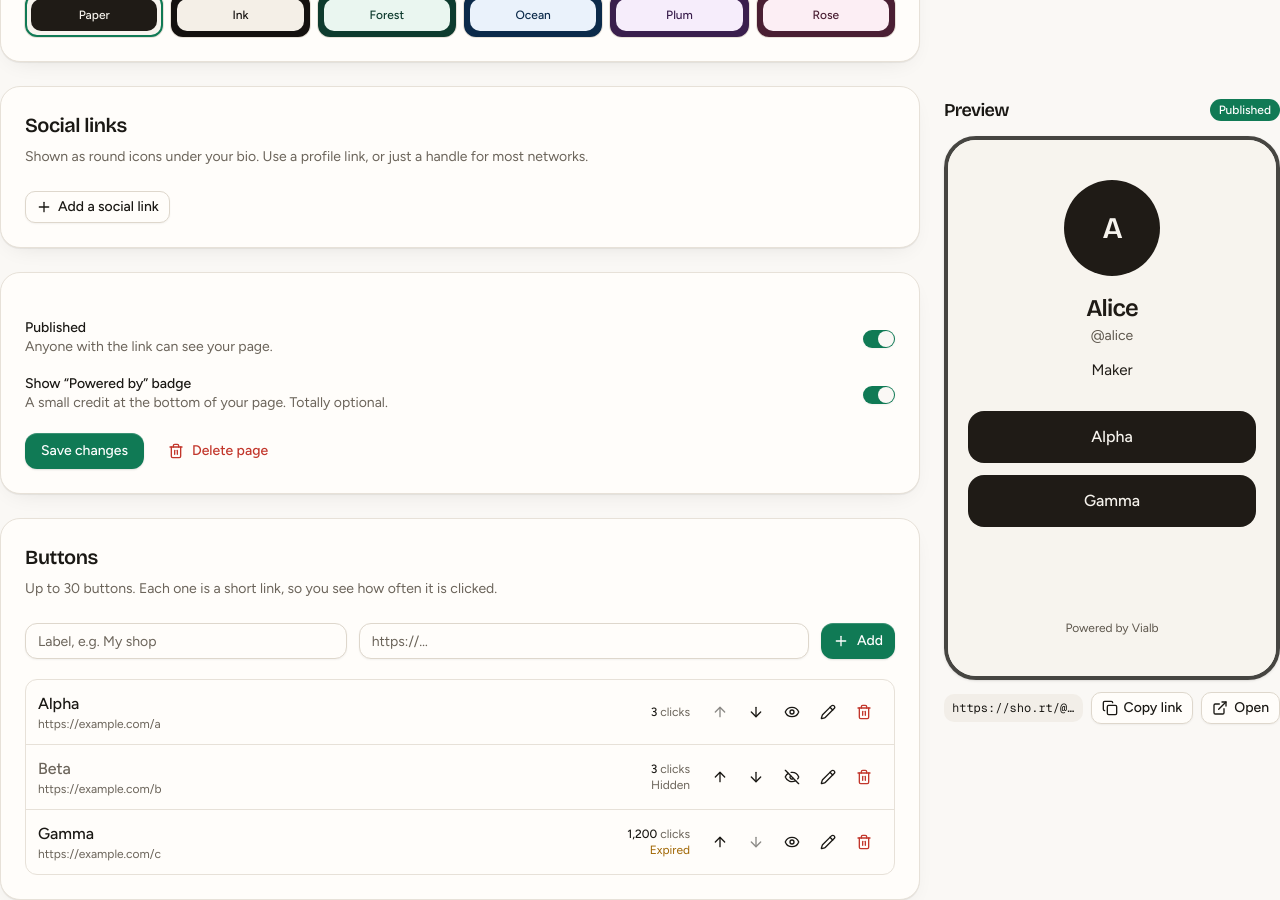
BioEditor with a page and buttons › shows why a button could not be added
(page scrolled)
Type "One more" into the field named "Button label" at (186, 641), box [25,623,347,659]
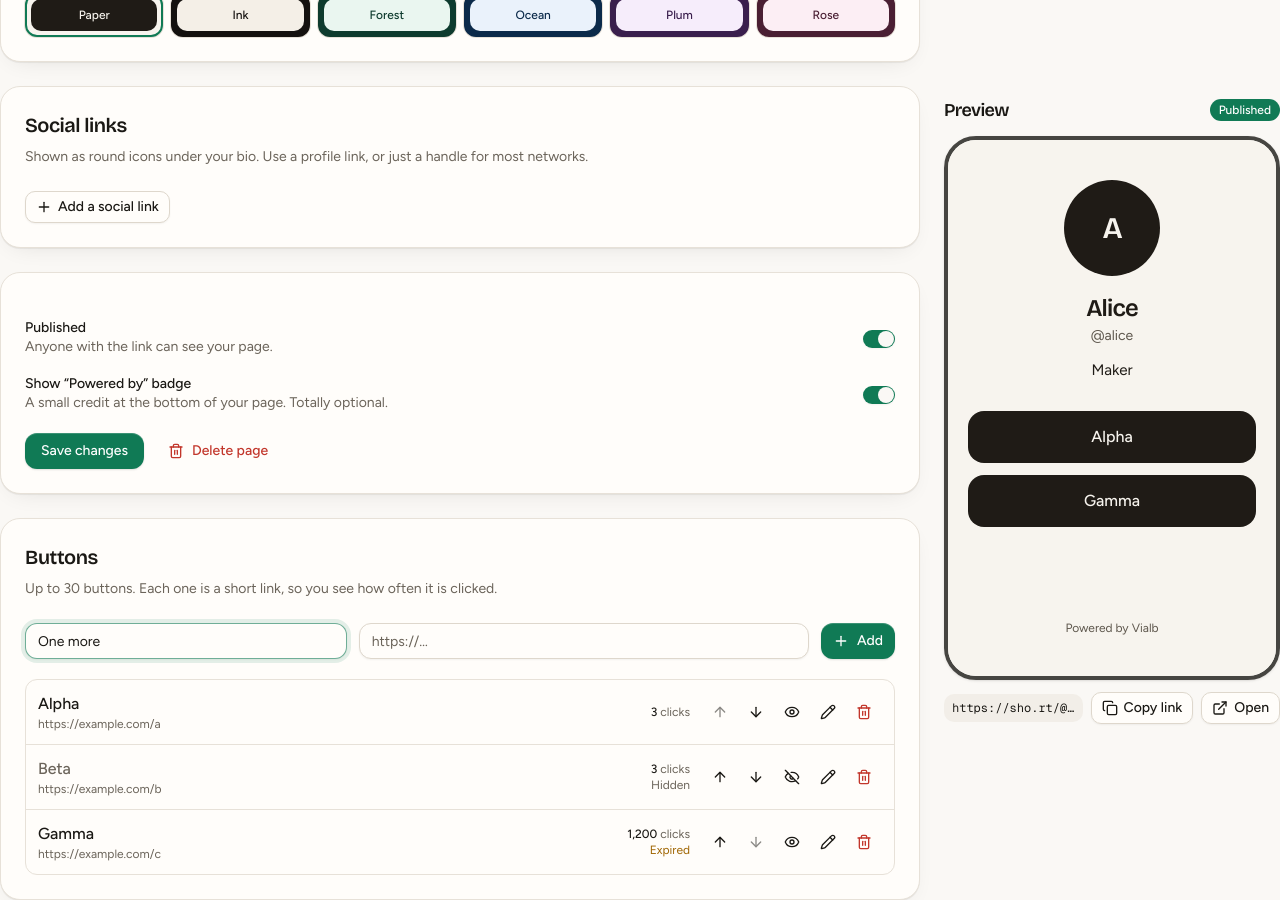
Type "https://example.com/more" into the field named "Button link" at (584, 641), box [359,623,809,659]
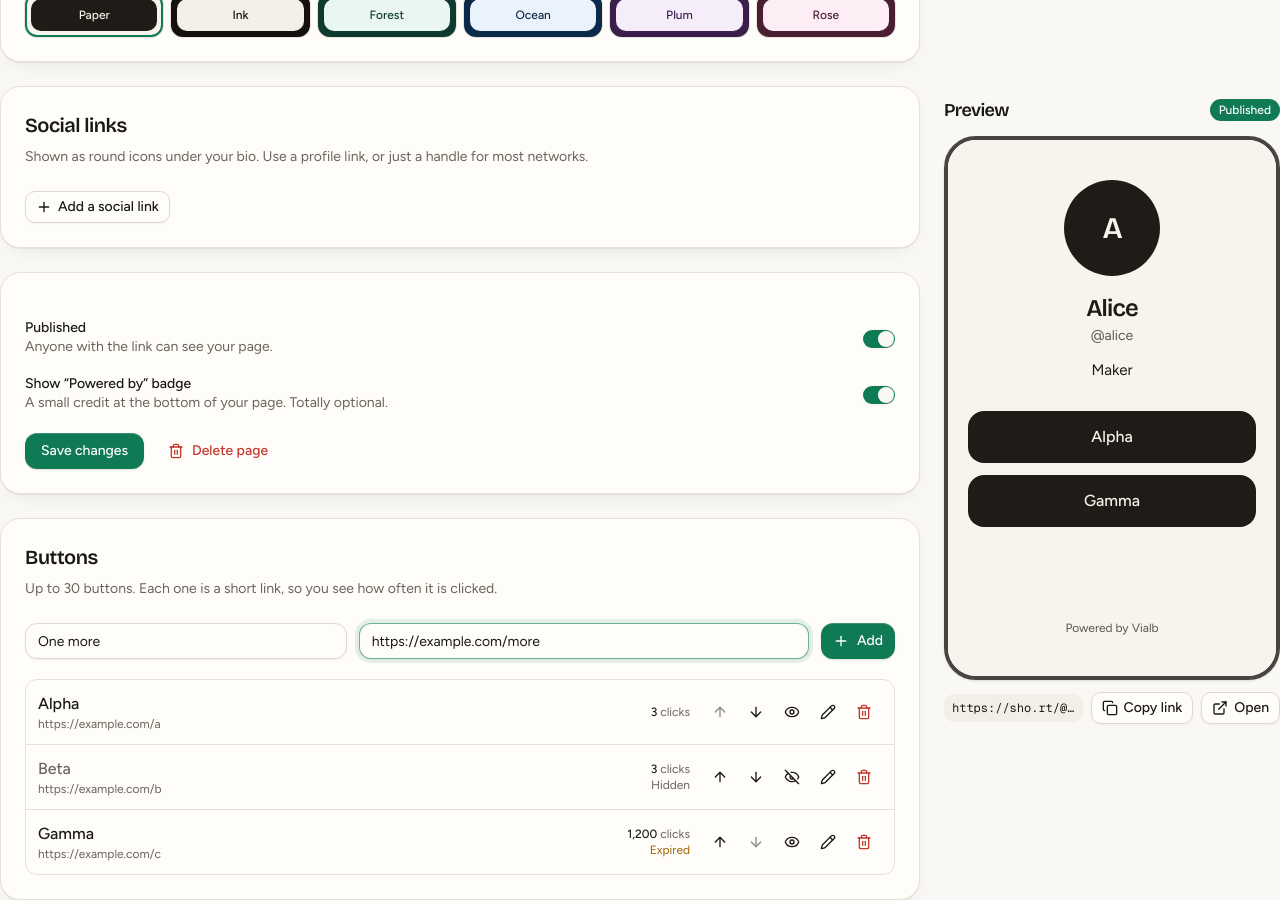
Click the button with test id "bio-add-button" at (858, 641), box [821,623,895,659]
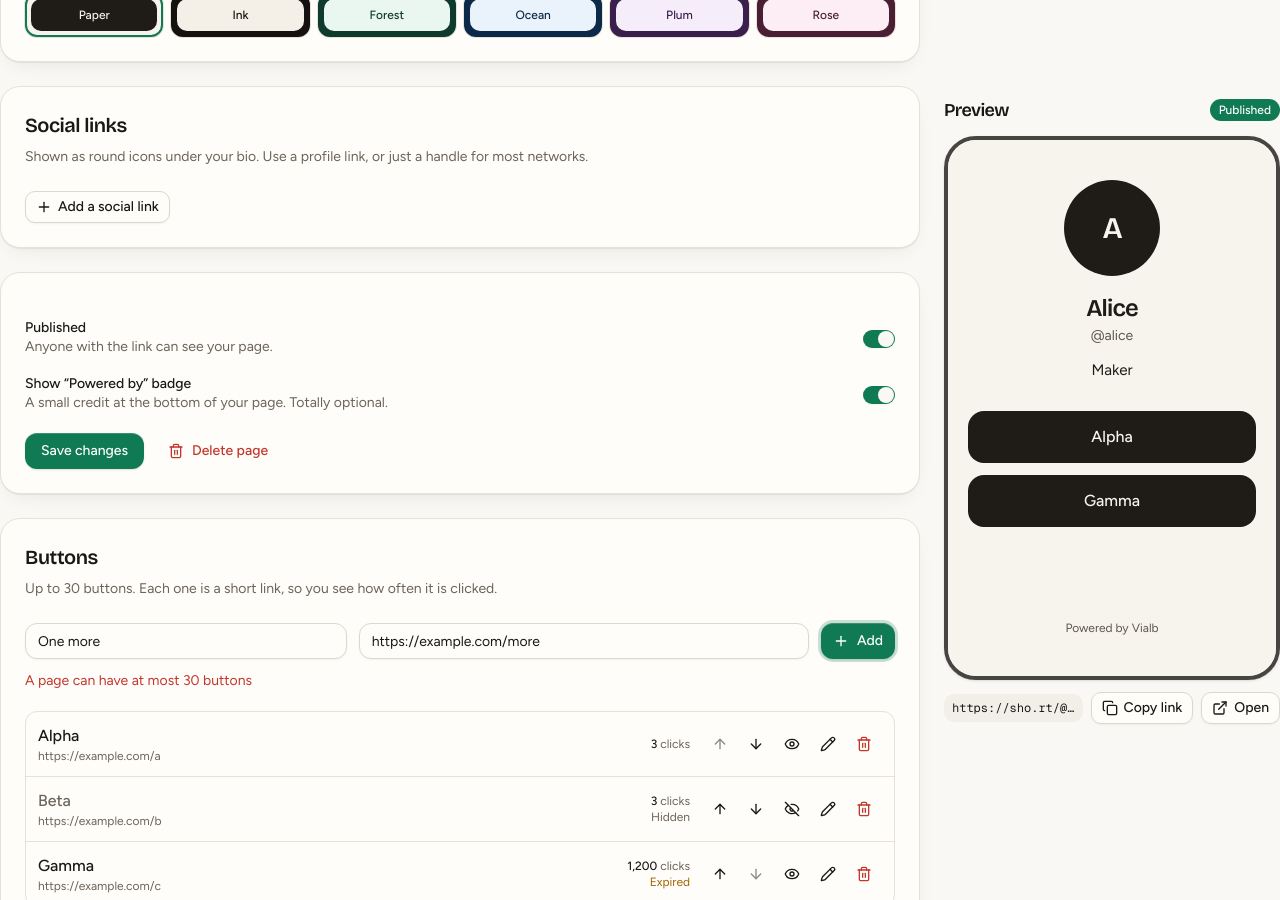
Now the message reads "A page can have at most 30 buttons", box [25,672,252,689]
